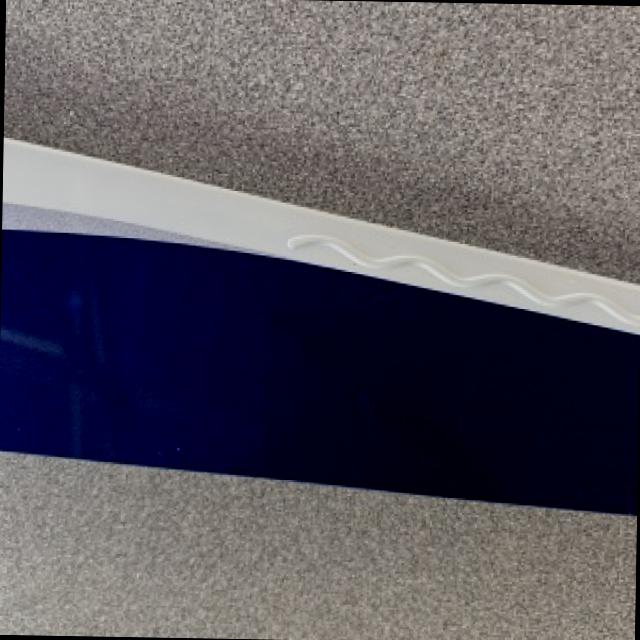healthy: (0, 140, 637, 511), (0, 453, 637, 640)
